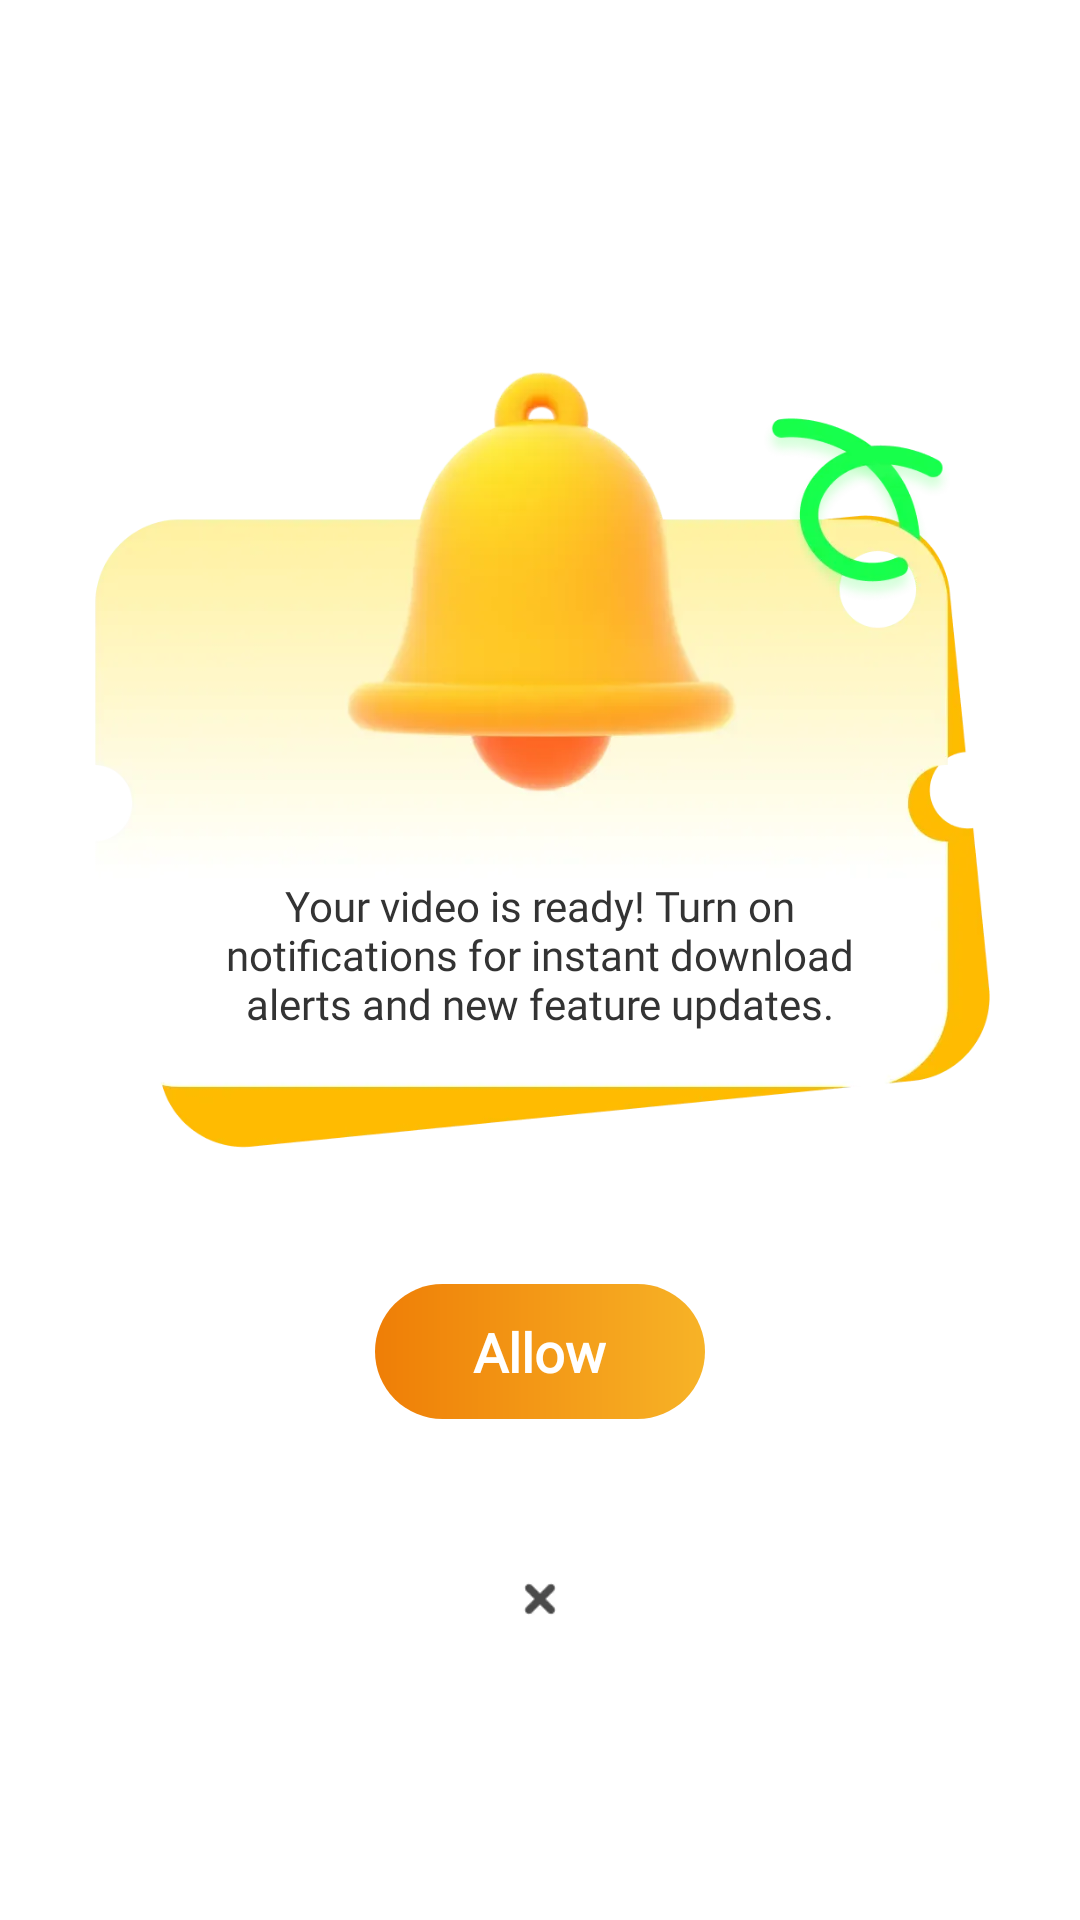

Icon click points for this 1080 × 1920 phone screenshot, format point (x, y):
close natify dialog: point (540, 1599)
